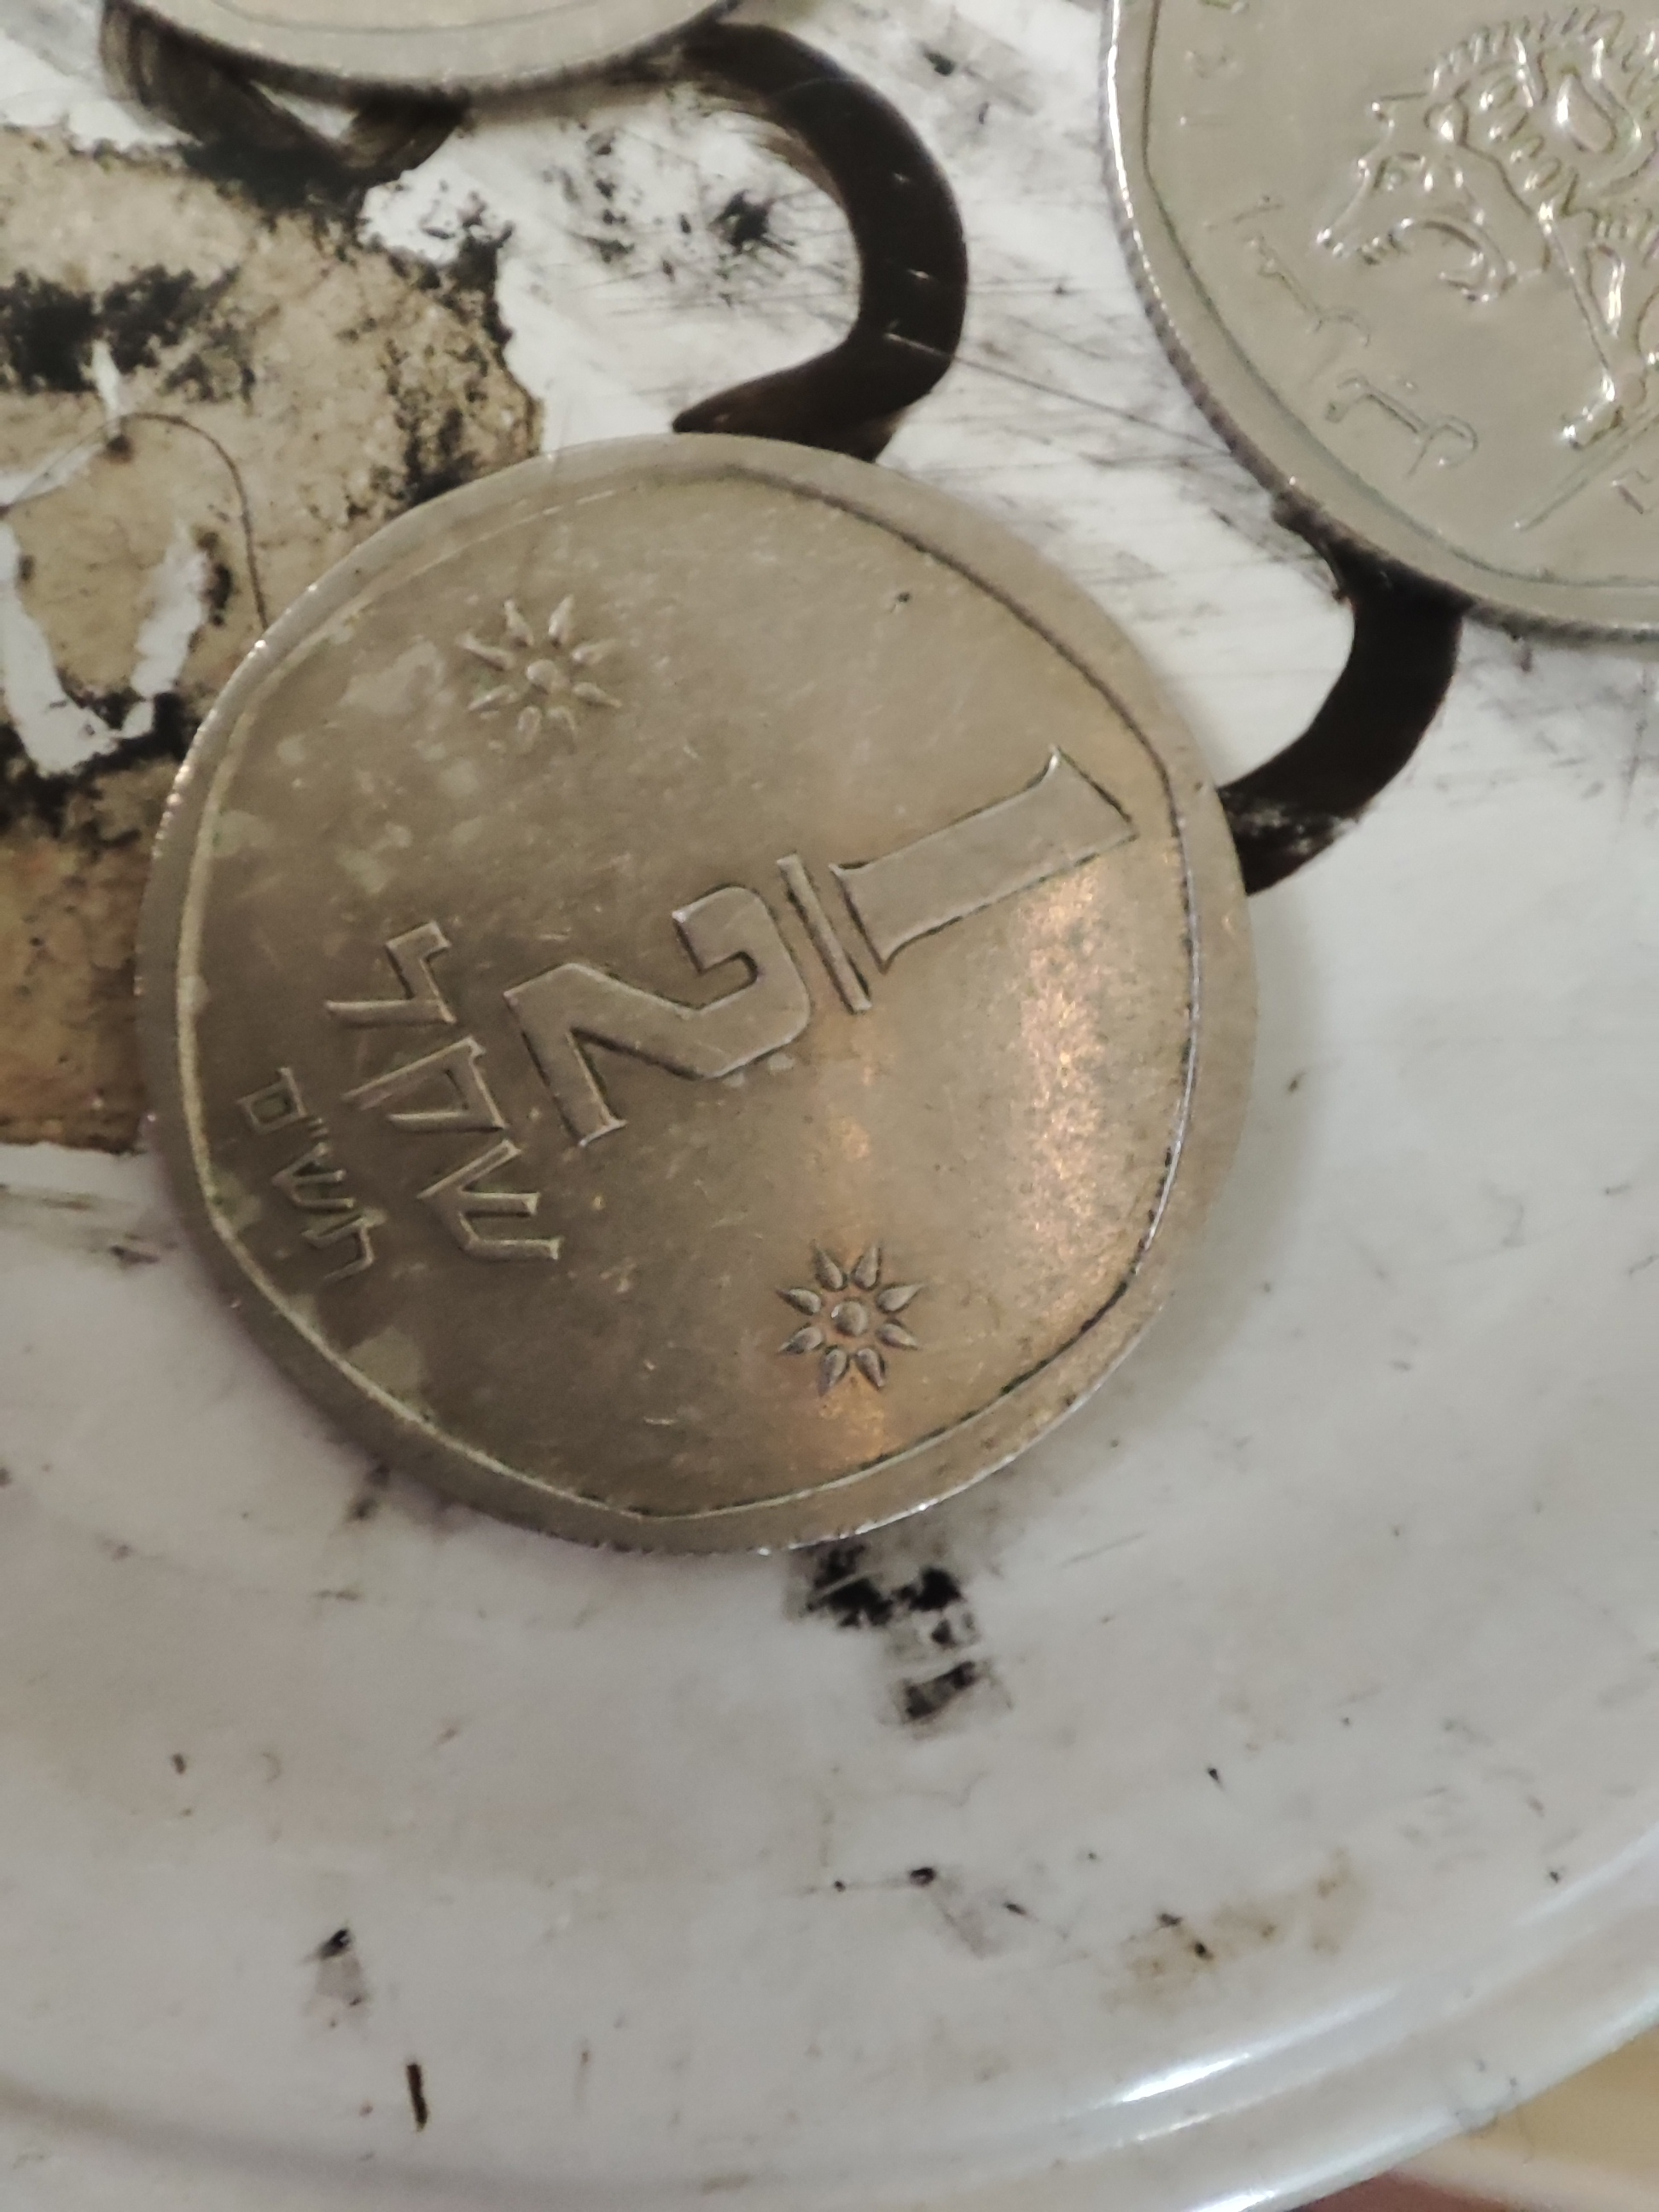1/2 old sheqel: (120, 421, 1265, 1564)
